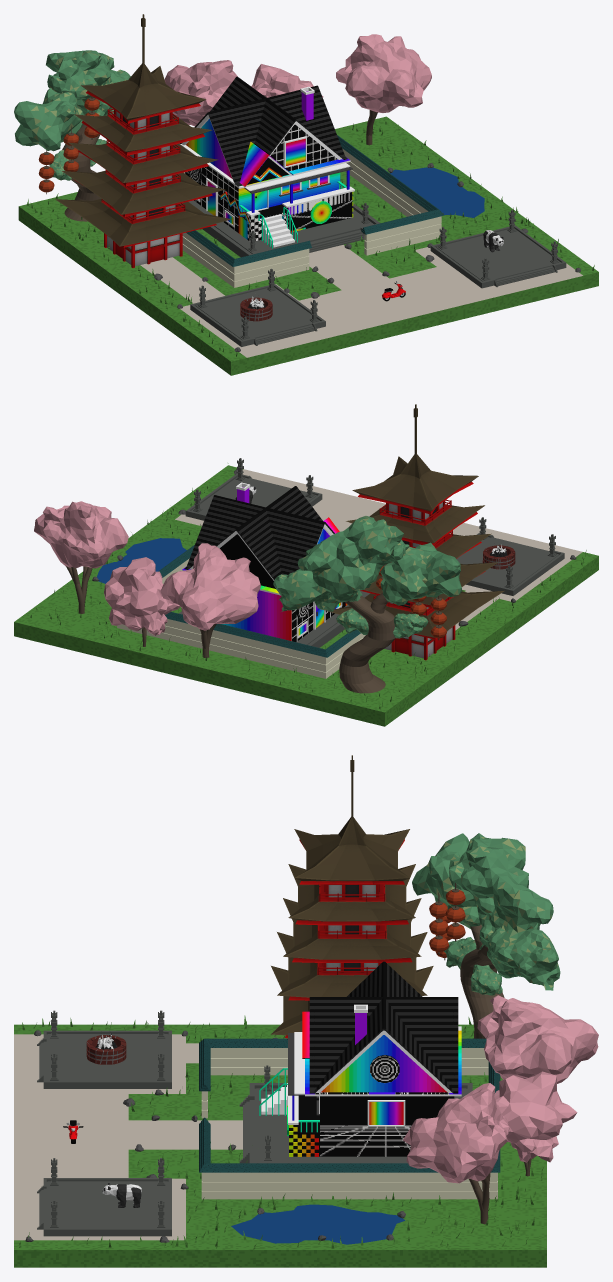
3 renders of one model, top to bottom at view 1: azimuth 30°, elevation 25°; view 2: azimuth 150°, elevation 25°; view 3: azimuth 270°, elevation 25°, orthographic. The views are drawn at different scales.
Visible parts, largest first — view 1: Cube.005, Cube.1320, OBJRANDOM_CAMPFIRE; view 2: Cube.005, Cube.1320, OBJRANDOM_CAMPFIRE; view 3: Cube.005, Cube.1320, OBJRANDOM_CAMPFIRE.
Boxes of the visible parts, <box> form: Cube.005: <box>14,14,598,375</box>; Cube.1320: <box>179,76,354,248</box>; OBJRANDOM_CAMPFIRE: <box>240,296,272,321</box>; Cube.005: <box>14,404,598,726</box>; Cube.1320: <box>182,482,347,642</box>; OBJRANDOM_CAMPFIRE: <box>482,544,515,569</box>; Cube.005: <box>14,755,598,1267</box>; Cube.1320: <box>259,961,461,1156</box>; OBJRANDOM_CAMPFIRE: <box>86,1033,126,1064</box>.
Bounding box in the file's own units: 4528 × 2690 × 4389.
Materials: 39 (7 with a texture image).
